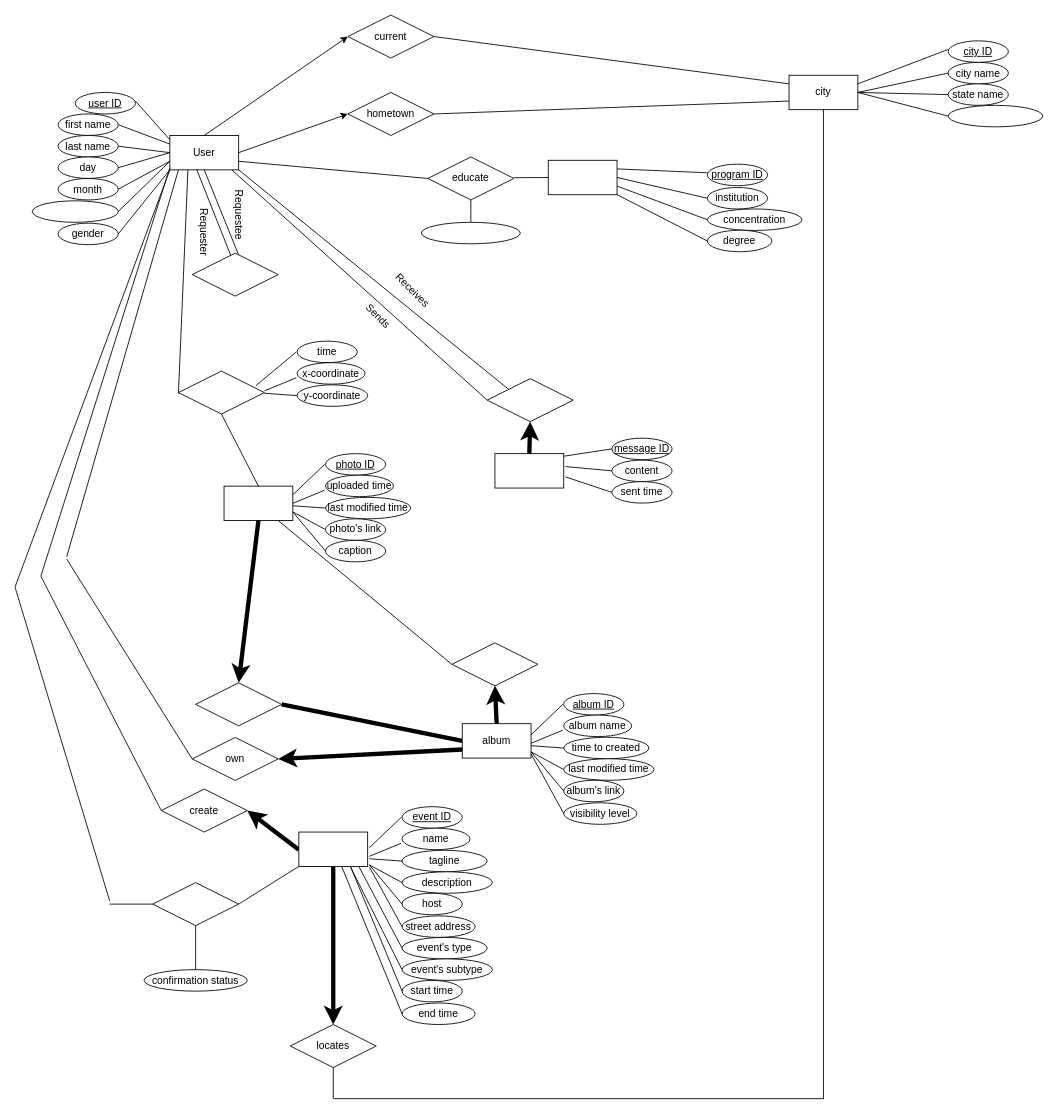
This 1058x1115 diagram has some shape labels left out. Here are the shapes that lost their labels. From the top down, the box of each, then its label:
(947, 104, 1043, 127): country name
(547, 159, 617, 195): program
(31, 200, 118, 222): year of birth
(421, 221, 520, 244): graduation year
(191, 252, 278, 296): become friends
(178, 370, 264, 414): is tagged
(486, 378, 573, 422): messages
(494, 453, 564, 488): message
(223, 485, 293, 521): photo
(451, 642, 538, 686): cover photos
(195, 682, 282, 726): places
(298, 831, 368, 866): event
(152, 882, 239, 926): participate
